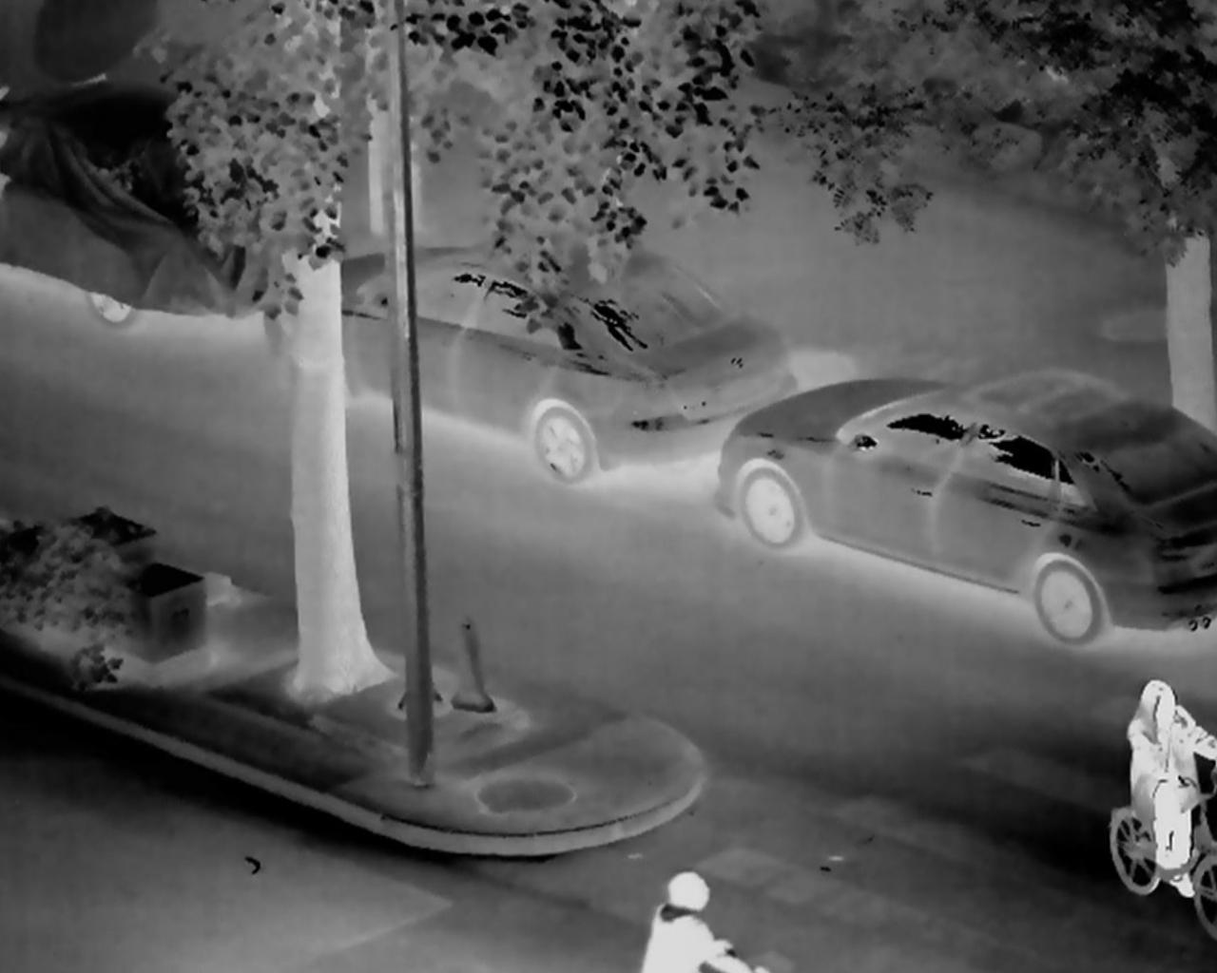person: (1125, 667, 1217, 903), (637, 864, 774, 973)
